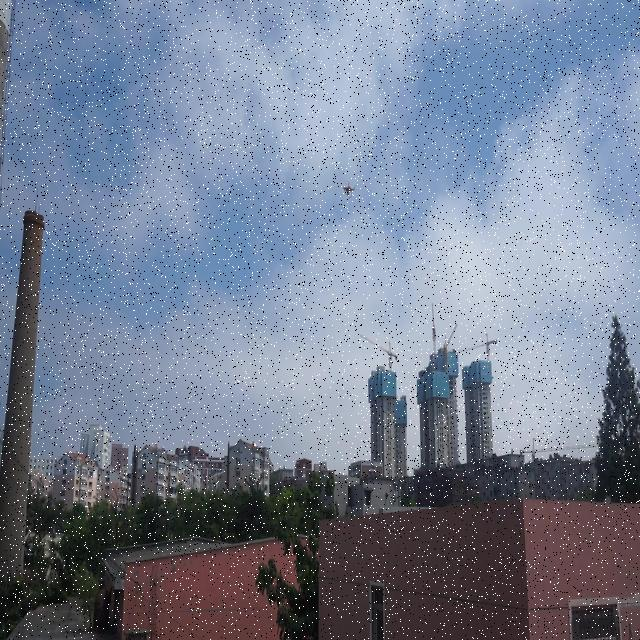UAV: (341, 180, 358, 199)
